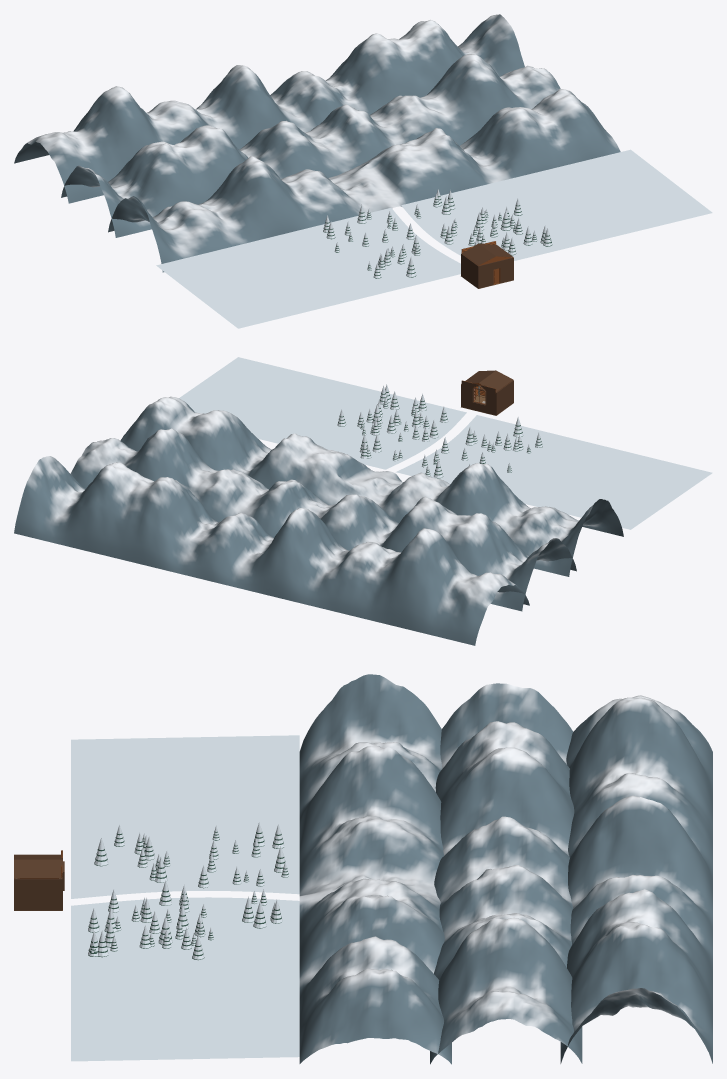
File: snowy-mountain.glb
3 views of the same model, one above another, from view 1: azimuth 30°, elevation 25°; view 2: azimuth 150°, elevation 25°; view 3: azimuth 270°, elevation 25° (orthographic). The views are drawn at different scales.
Parts seen in each view (by area): view 1: Cabin_Mountain_0, Cabin_Mountain_2, Cabin_Mountain_1, Cabin_Snow_Bank, Cabin_Snow_Bank.001, Cabin_Snow_Boughs, Cabin_Pines; view 2: Cabin_Mountain_2, Cabin_Mountain_0, Cabin_Mountain_1, Cabin_Snow_Bank, Cabin_Snow_Bank.001, Cabin_Snow_Boughs, Cabin_Pines, Cabin_Chinking; view 3: Cabin_Mountain_0, Cabin_Mountain_2, Cabin_Mountain_1, Cabin_Snow_Bank, Cabin_Snow_Bank.001, Cabin_Snow_Boughs, Cabin_Pines, Room_Wall_R, Cabin_Roof_Sheathing.001.
Part boxes in pixels (x1=…): Cabin_Mountain_0: x1=108, y1=89, x2=620, y2=272; Cabin_Mountain_2: x1=14, y1=14, x2=524, y2=203; Cabin_Mountain_1: x1=61, y1=54, x2=560, y2=237; Cabin_Snow_Bank: x1=156, y1=208, x2=460, y2=328; Cabin_Snow_Bank.001: x1=401, y1=149, x2=712, y2=260; Cabin_Snow_Boughs: x1=323, y1=189, x2=552, y2=278; Cabin_Pines: x1=323, y1=196, x2=552, y2=278; Cabin_Mountain_2: x1=14, y1=456, x2=529, y2=645; Cabin_Mountain_0: x1=120, y1=396, x2=623, y2=576; Cabin_Mountain_1: x1=70, y1=428, x2=576, y2=611; Cabin_Snow_Bank: x1=395, y1=415, x2=712, y2=529; Cabin_Snow_Bank.001: x1=179, y1=357, x2=466, y2=469; Cabin_Snow_Boughs: x1=337, y1=384, x2=542, y2=477; Cabin_Pines: x1=337, y1=391, x2=542, y2=478; Cabin_Chinking: x1=461, y1=380, x2=495, y2=415; Cabin_Mountain_0: x1=299, y1=674, x2=451, y2=1064; Cabin_Mountain_2: x1=560, y1=695, x2=712, y2=1063; Cabin_Mountain_1: x1=430, y1=683, x2=582, y2=1064; Cabin_Snow_Bank: x1=71, y1=735, x2=299, y2=898; Cabin_Snow_Bank.001: x1=71, y1=897, x2=299, y2=1061; Cabin_Snow_Boughs: x1=88, y1=822, x2=288, y2=959; Cabin_Pines: x1=88, y1=831, x2=288, y2=960; Room_Wall_R: x1=15, y1=879, x2=62, y2=910; Cabin_Roof_Sheathing.001: x1=14, y1=859, x2=62, y2=878.
Size of the model in its own units: 70 by 10.77 by 64.25.
52 materials, 20 textured.
